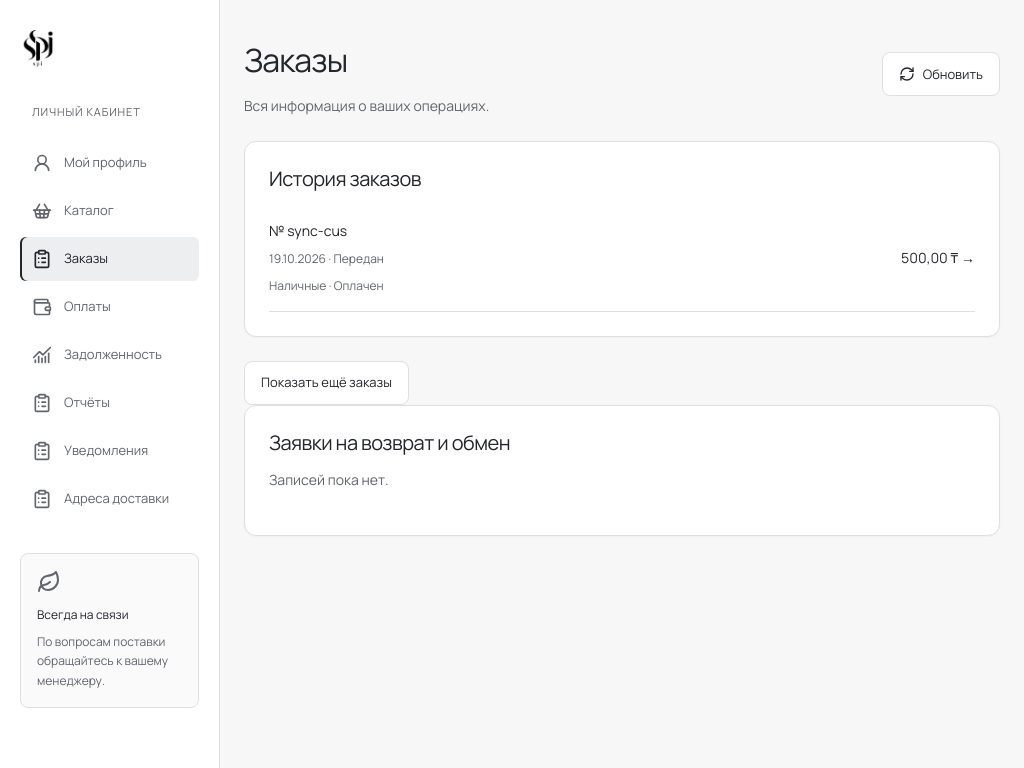
preserves an older order page when background refresh happens during pagination
What coordinates should you click on to do the following:
click the button "Показать ещё заказы"
I would click on:
 (326, 383)
Its box is [244,361,409,405].
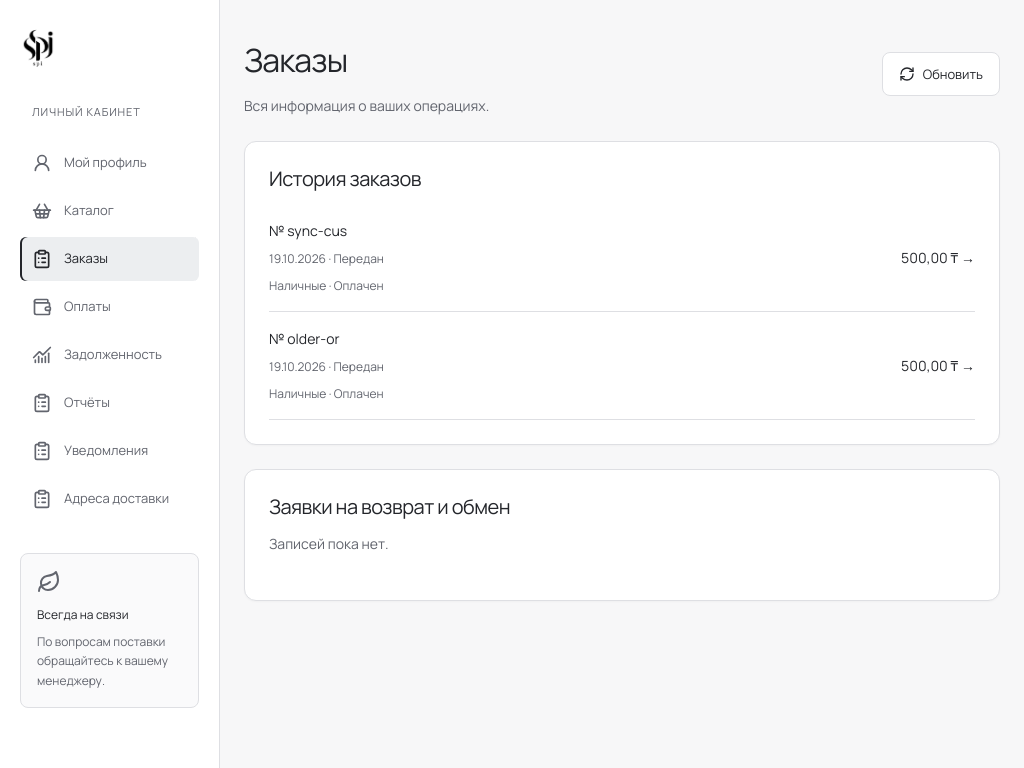
Expected: the button that starts with "older-or" is shown, [269,312,975,420]
